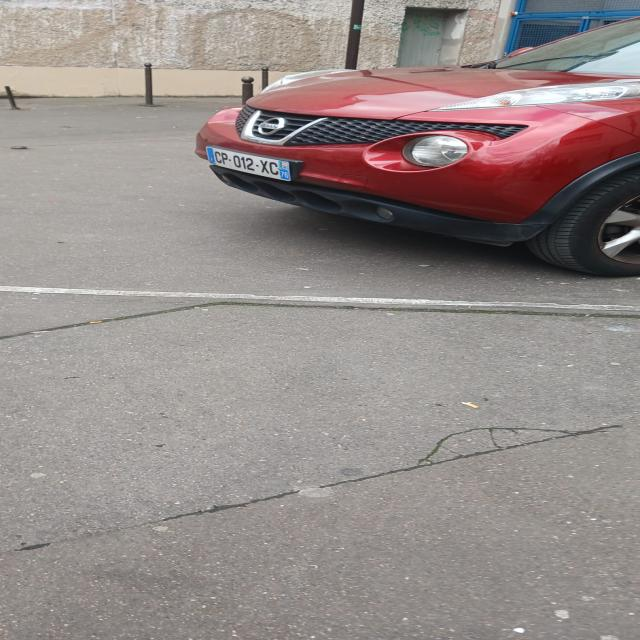EU: (205, 146, 299, 181)
France: (207, 147, 216, 163)
